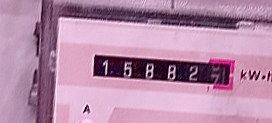1: (98, 55, 110, 74)
2: (186, 61, 199, 80)
5: (120, 58, 133, 76)
7: (208, 70, 220, 82)
8: (141, 59, 155, 77), (164, 60, 177, 79)
screen: (83, 41, 241, 96)
